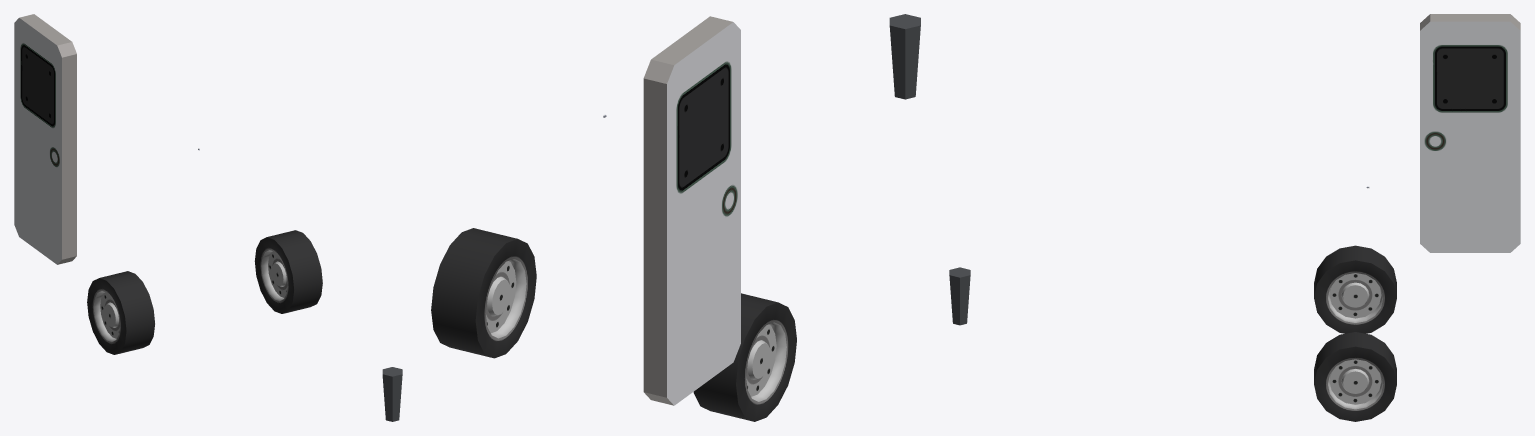
The model's file is van.glb.
3 renders of one model, left to right at view 1: azimuth 30°, elevation 25°; view 2: azimuth 150°, elevation 25°; view 3: azimuth 270°, elevation 25°, orthographic. The views are drawn at different scales.
Visible parts, largest first — view 1: Door, Wheel__b1, Wheel__b2, Hitch_element; view 2: Door, Wheel__b2, Wheel__b1, Hitch_element; view 3: Door, Wheel__b2, Wheel__b1, Hitch_element.
Part boxes in pixels (x1,y1,x2,y2): Door: (14,14,76,264); Wheel__b1: (87,271,154,354); Wheel__b2: (254,230,322,313); Hitch_element: (382,367,402,421); Door: (643,16,740,405); Wheel__b2: (431,228,536,358); Wheel__b1: (693,293,796,421); Hitch_element: (889,14,920,99); Door: (1420,14,1520,252); Wheel__b2: (1314,332,1396,421); Wheel__b1: (1314,245,1396,333); Hitch_element: (949,267,970,325).
Size of the model in its own units: 100 by 130 by 224.
1 material, 1 textured.
